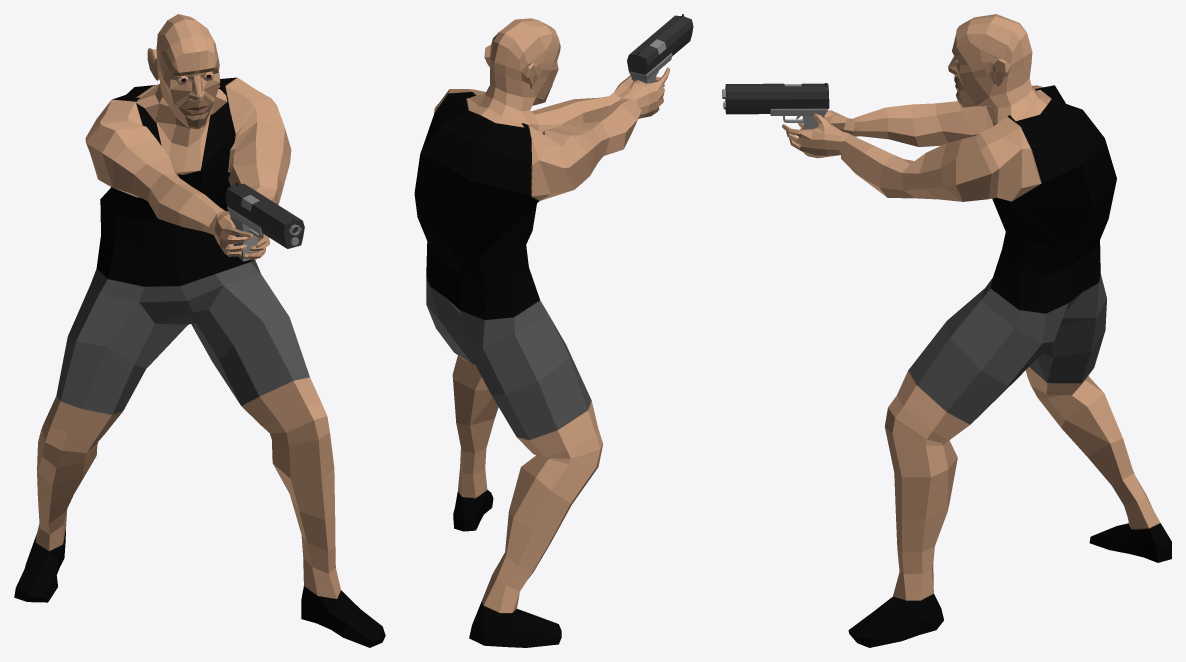
File: PlayerShoot(22).obj
The picture shows the model from 3 angles, left to right: view 1: azimuth 30°, elevation 25°; view 2: azimuth 150°, elevation 25°; view 3: azimuth 270°, elevation 25°; orthographic projection. The views are drawn at different scales.
Visible parts, largest first — view 1: Plane002, Box003; view 2: Plane002, Box003; view 3: Plane002, Box003.
Part boxes in pixels (x1,y1,x2,y2): Plane002: (14, 14, 385, 647); Box003: (225, 182, 304, 261); Plane002: (414, 18, 669, 647); Box003: (627, 14, 693, 83); Plane002: (782, 14, 1171, 647); Box003: (722, 83, 829, 151).
Bounding box in the file's own units: 716 × 1664 × 1191.
